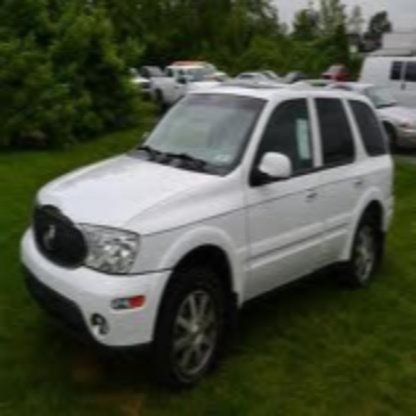Vehicle: (21, 80, 395, 384)
